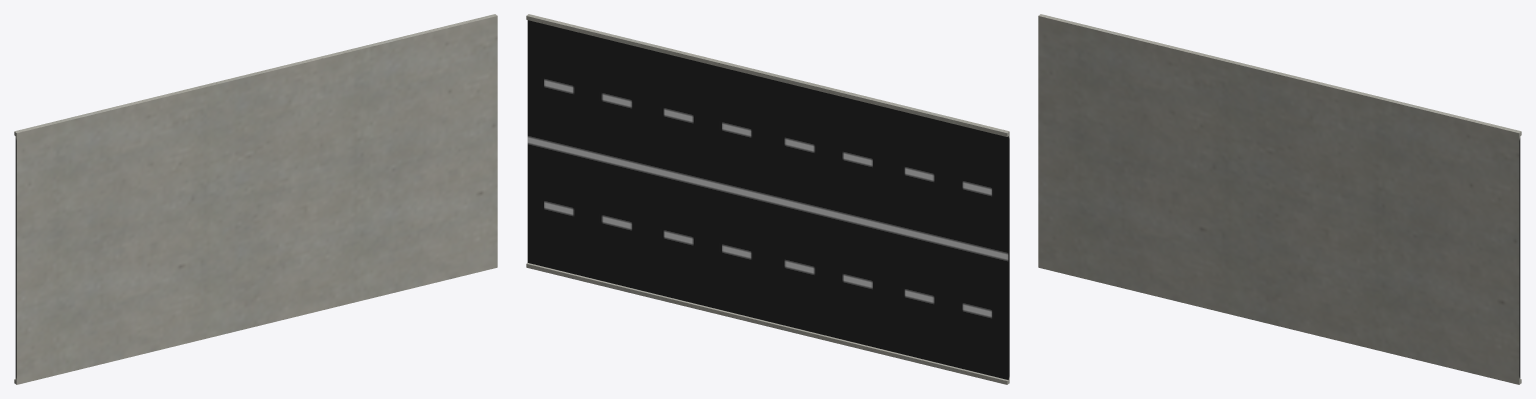
Rendered from asphalt-road-double-block-subwalk-16m.fbx.
The picture shows the model from 3 angles, left to right: view 1: azimuth 30°, elevation 25°; view 2: azimuth 150°, elevation 25°; view 3: azimuth 330°, elevation 25°; orthographic projection.
Parts seen in each view (by area): view 1: asphalt-road-double-block-subwalk-16m; view 2: asphalt-road-double-block-subwalk-16m; view 3: asphalt-road-double-block-subwalk-16m.
Boxes of the visible parts, bbox=[...] form: asphalt-road-double-block-subwalk-16m: bbox=[14, 14, 497, 384]; asphalt-road-double-block-subwalk-16m: bbox=[526, 14, 1009, 384]; asphalt-road-double-block-subwalk-16m: bbox=[1038, 14, 1521, 384].
Size of the model in its own units: 16 by 8 by 0.15.
